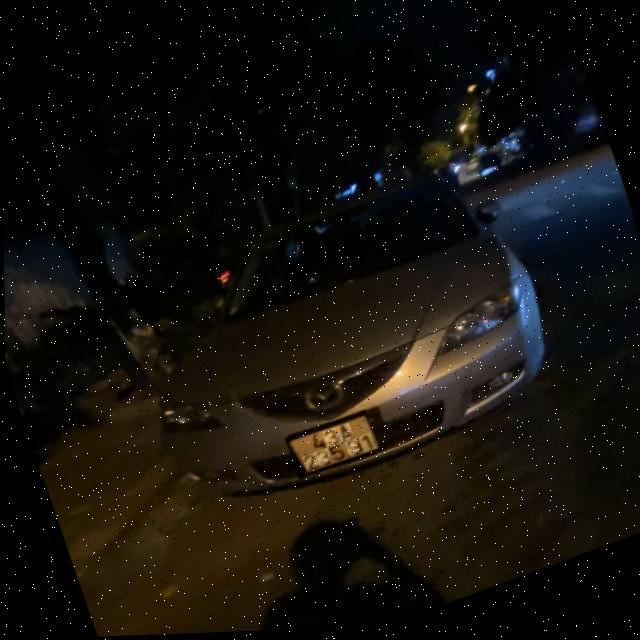car: (109, 132, 587, 522)
plate: (279, 403, 392, 485)
